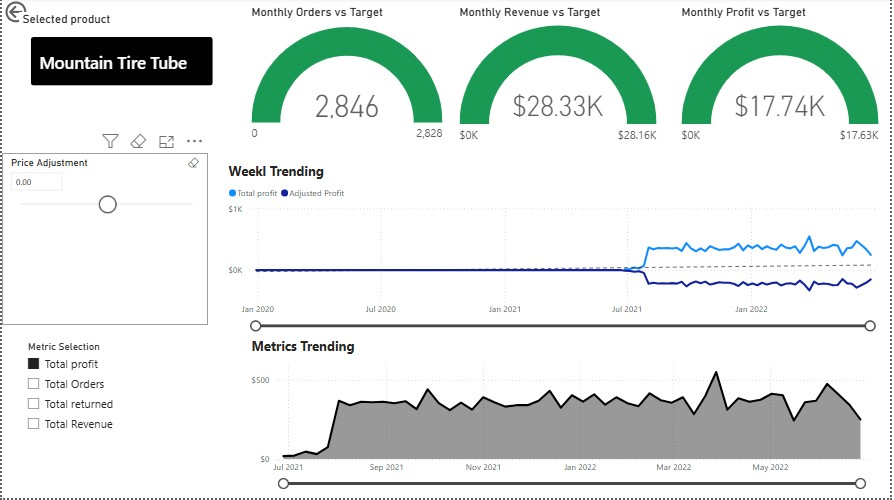

The dashboard page shown, as its layout file describes it:
{"tool":"powerbi","page":{"name":"PRODUCT DETAILS","canvas":[1280,720],"ordinal":3},"visuals":[{"type":"lineChart","title":"Weekl Trending ","fields":{"Category":["Calendar Lookup.Date Hierarchy.Start of Week","Calendar Lookup.Date Hierarchy.Start of Month","Calendar Lookup.Date Hierarchy.Start of Quarter","Calendar Lookup.Date Hierarchy.Year"],"Y":["Measure Table.Total profit","Measure Table.Adjusted Profit"]},"box":[321.1,236,958.9,246.6],"z":0},{"type":"areaChart","title":"Metrics Trending","fields":{"Category":["Calendar Lookup.Date Hierarchy.Start of Week","Calendar Lookup.Date Hierarchy.Start of Month","Calendar Lookup.Date Hierarchy.Start of Quarter","Calendar Lookup.Date Hierarchy.Year"],"Y":["Measure Table.Total profit"]},"box":[354.2,488.2,913,221.8],"z":1000},{"type":"gauge","title":"Monthly Orders vs Target","fields":{"MaxValue":["Measure Table.Orders Target"],"Y":["Measure Table.Total Orders"]},"box":[354.2,10.1,285.1,213.1],"z":2000},{"type":"gauge","title":"Monthly Revenue vs Target","fields":{"MaxValue":["Measure Table.Revenue Target"],"Y":["Measure Table.Total Revenue"]},"box":[653.8,10.1,293.8,213.1],"z":3000},{"type":"gauge","title":"Monthly Profit vs Target","fields":{"MaxValue":["Measure Table.Profit Target"],"Y":["Measure Table.Total profit"]},"box":[973.4,10.1,293.8,213.1],"z":4000},{"type":"actionButton","box":[0,0,100,40],"z":5000},{"type":"cardVisual","title":"Selected product","fields":{"Data":["Min(Product Lookup.ProductName)"]},"box":[24.5,20.2,296.6,123.8],"z":6000},{"type":"slicer","fields":{"Values":["Metric Selection 2.Metric Selection"]},"box":[24,488,297,222],"z":7000},{"type":"slicer","fields":{"Values":["Price Adjustment.Price Adjustment"]},"box":[0,223.5,297,247],"z":7001}]}

Visuals, with their boxes on the page's 1280x720 design canvas (x1, y1, x2, y2). These are canvas units, not pixel positions in the 894x500 screenshot, which may show the page scaled, cropped or inside an application window:
"Weekl Trending " lineChart: bbox=(321, 236, 1280, 483)
"Metrics Trending" areaChart: bbox=(354, 488, 1267, 710)
"Monthly Orders vs Target" gauge: bbox=(354, 10, 639, 223)
"Monthly Revenue vs Target" gauge: bbox=(654, 10, 948, 223)
"Monthly Profit vs Target" gauge: bbox=(973, 10, 1267, 223)
actionButton: bbox=(0, 0, 100, 40)
"Selected product" cardVisual: bbox=(24, 20, 321, 144)
slicer - Metric Selection 2.Metric Selection: bbox=(24, 488, 321, 710)
slicer - Price Adjustment.Price Adjustment: bbox=(0, 224, 297, 470)
